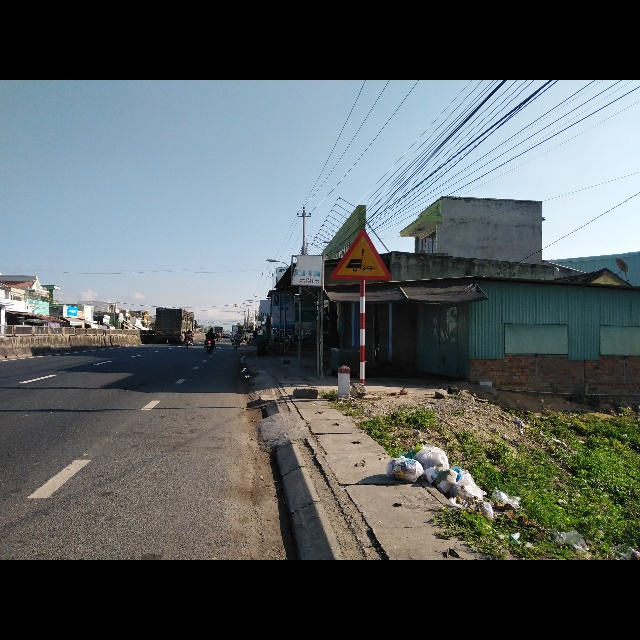Đoạn đường hay xảy ra tai nạn: (330, 226, 393, 282)
